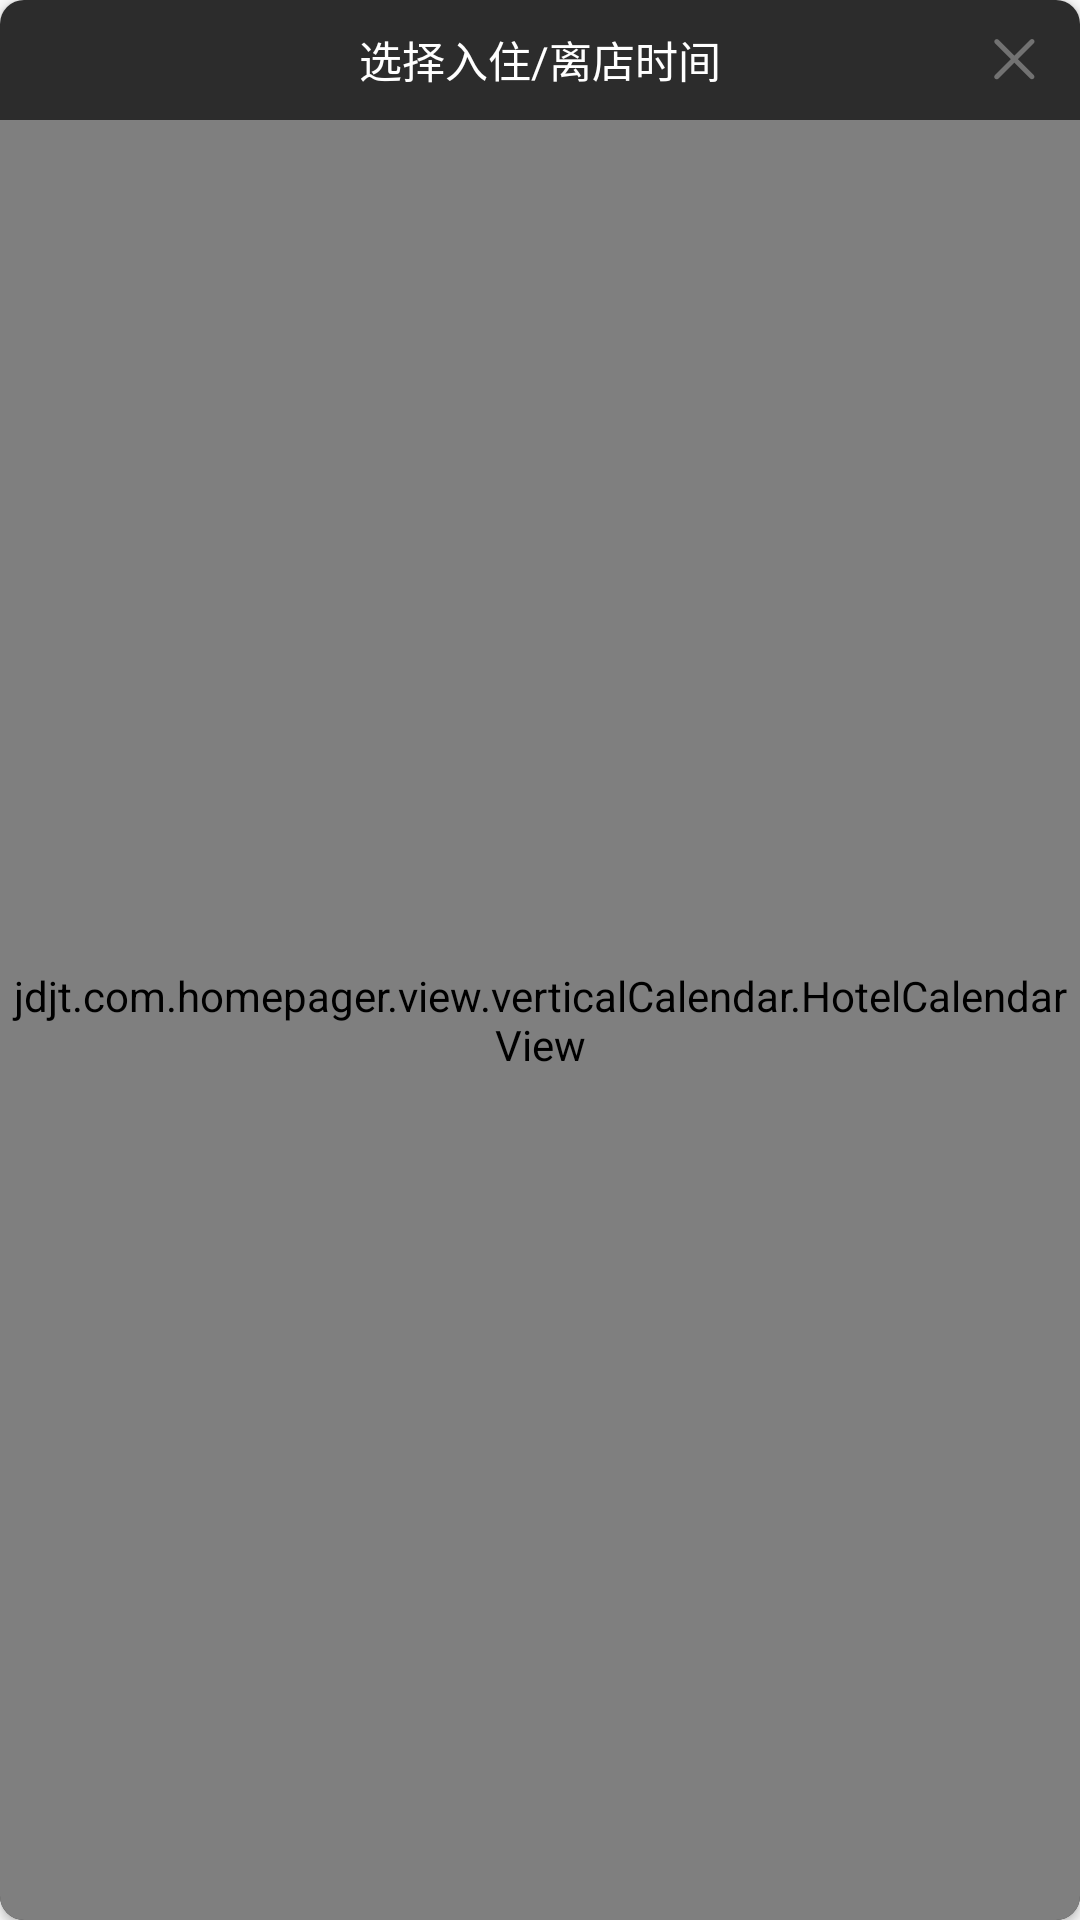

Icon bounding boxes for this 1080x1920 phone screenshot, format (x1, y1, x2, y2):
close: (994, 39, 1035, 79)
